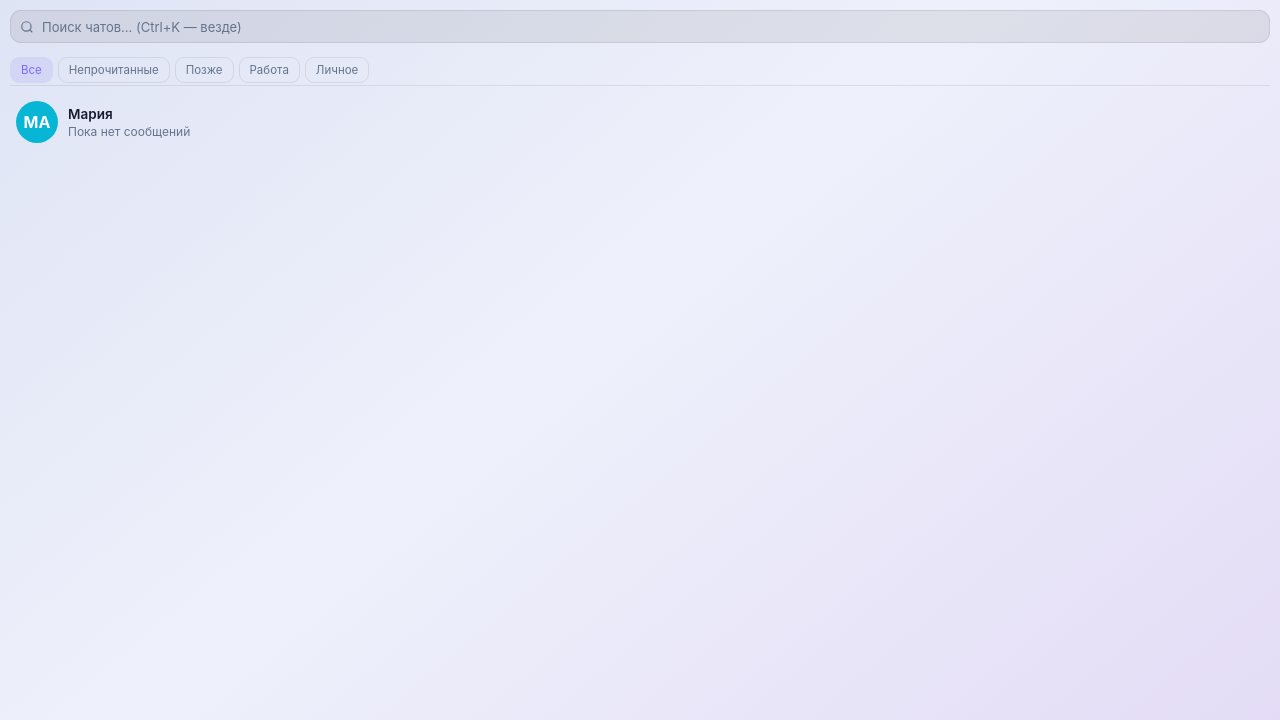
Test case: the chat list context menu › offers deleting the chat under the right mouse button
The image size is (1280, 720).
Expected: the text "Удалить чат" is not shown
Right-click the text "Мария".
right_click(90, 114)  # box [68,106,113,122]
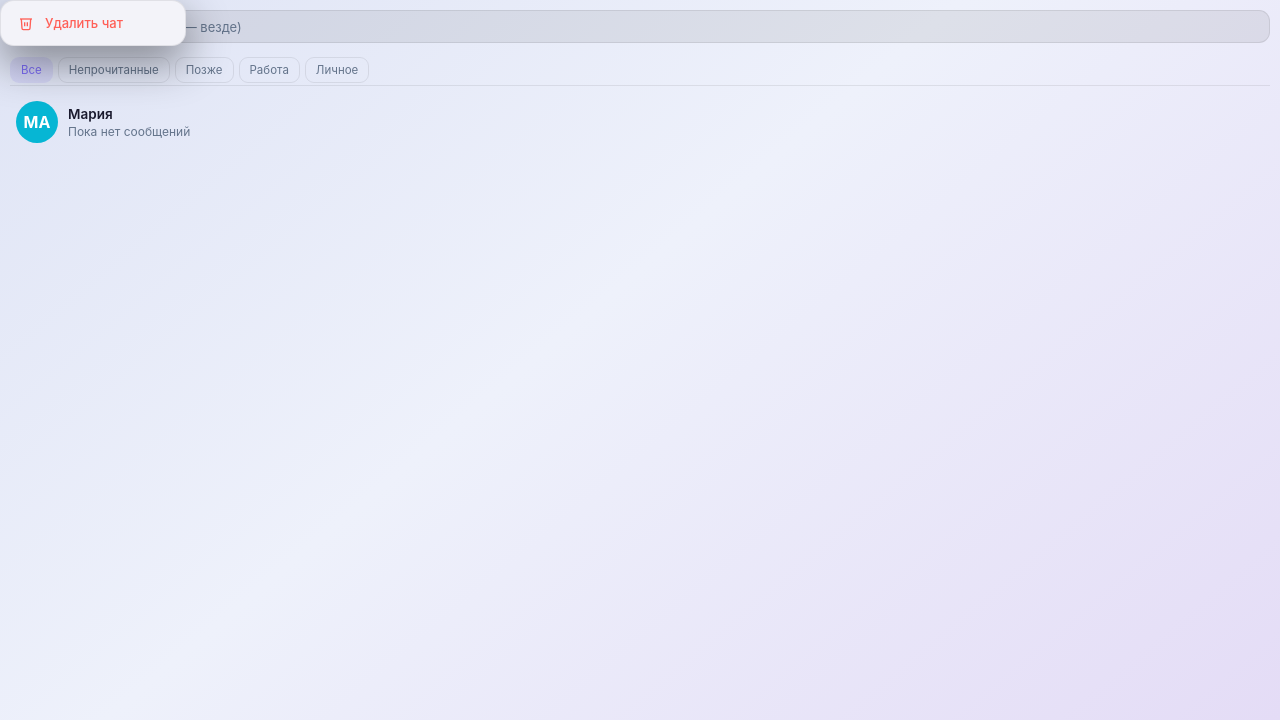
Expected: the text "Удалить чат" is shown, [18,15,123,31]
